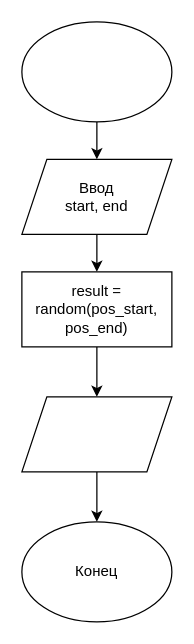
This 194x644 diagram has some shape labels left out. Each missing label, with the centre of its shape:
"Выод result" belongs at (x=96, y=434).
"Начало" belongs at (x=96, y=71).
